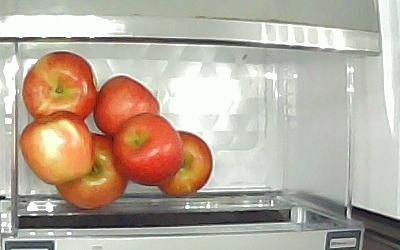apple: (54, 133, 127, 210), (23, 51, 97, 126), (20, 111, 95, 185), (113, 114, 184, 186), (96, 75, 161, 139), (148, 132, 213, 196)
